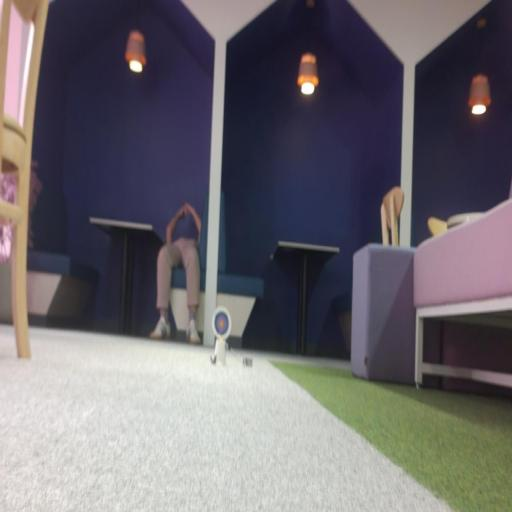target: (212, 306, 232, 339)
